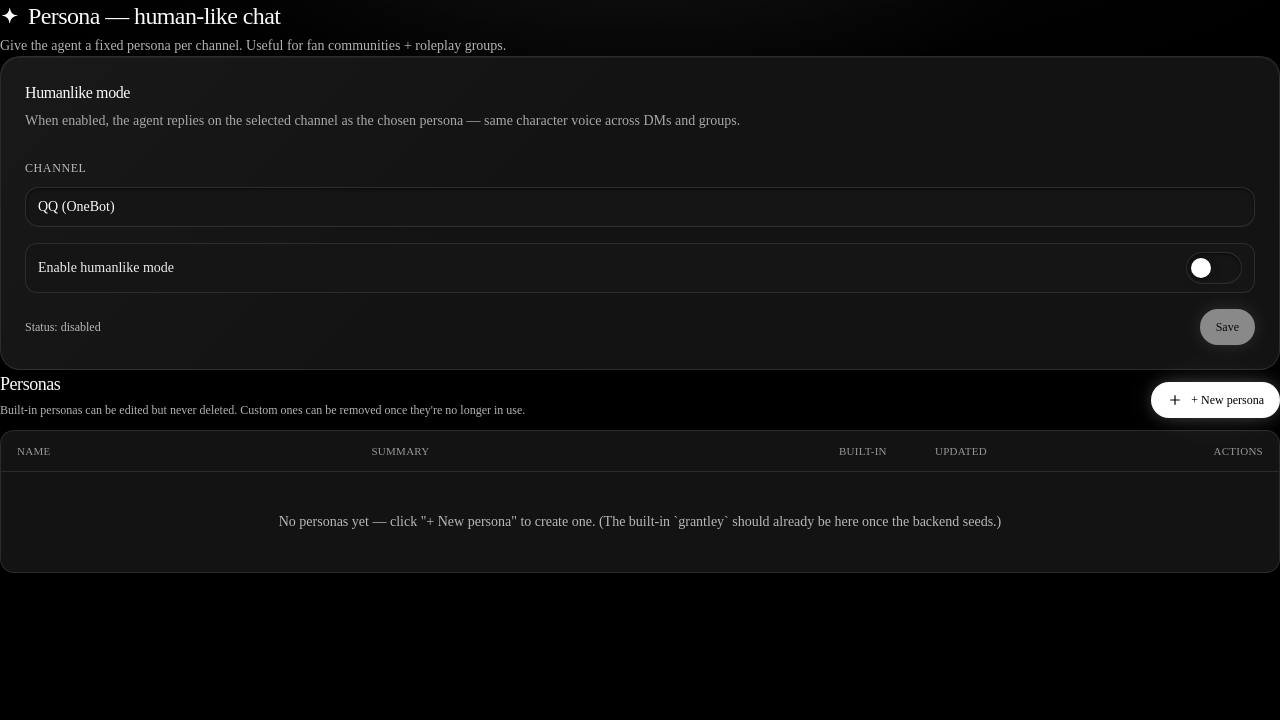
PersonaPage — editor modal › create flow validates required fields before POSTing
Expected: the cell with test id "personas-empty" is shown, [1,471,1279,572]
Click the button with test id "persona-new": (1216, 400) [1151,382,1279,418]
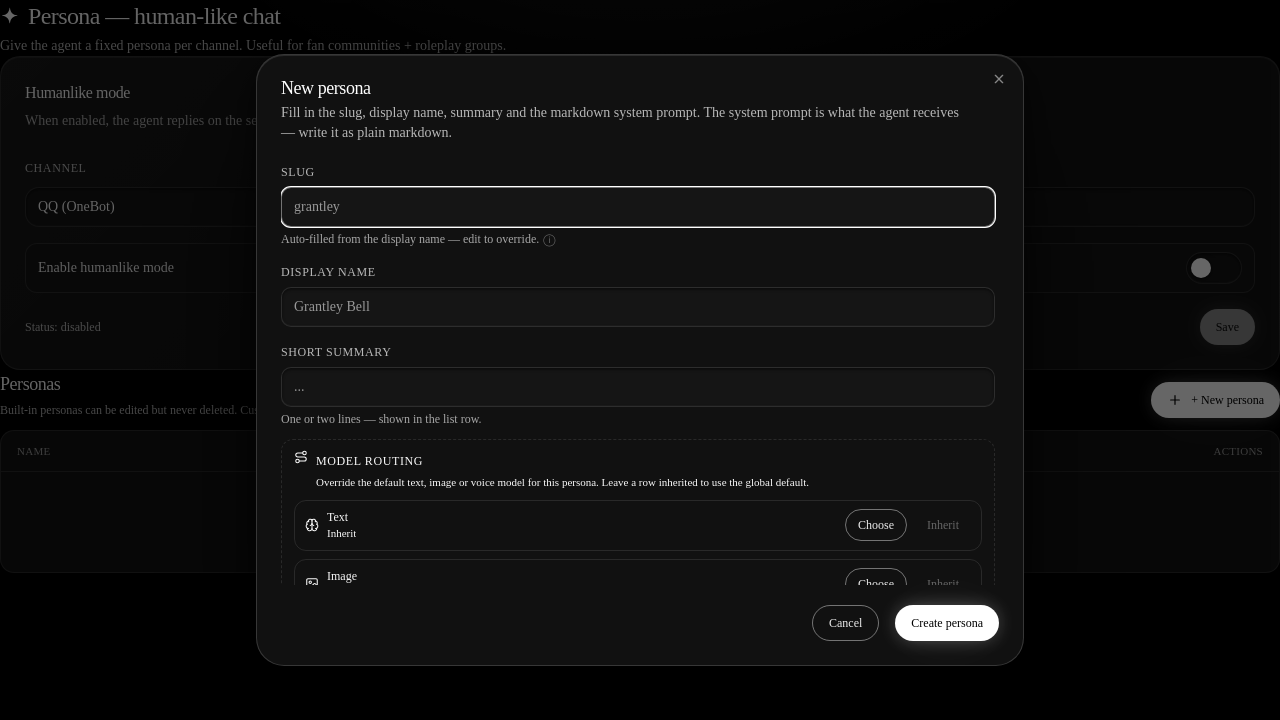
Click the button with test id "persona-editor-save": (947, 623) [895,605,999,641]
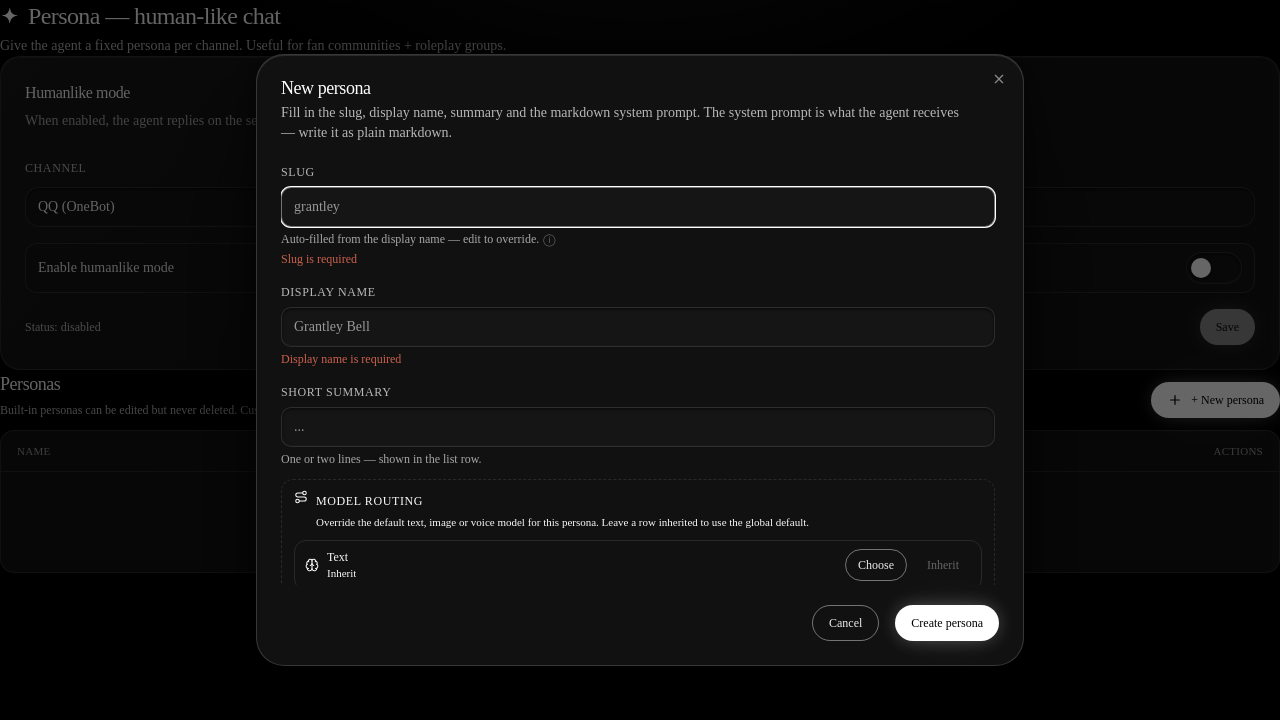
Now the text "Slug is required" is shown, box [281,252,357,266]
